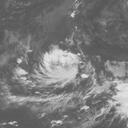cyclone: (38, 47, 95, 103)
